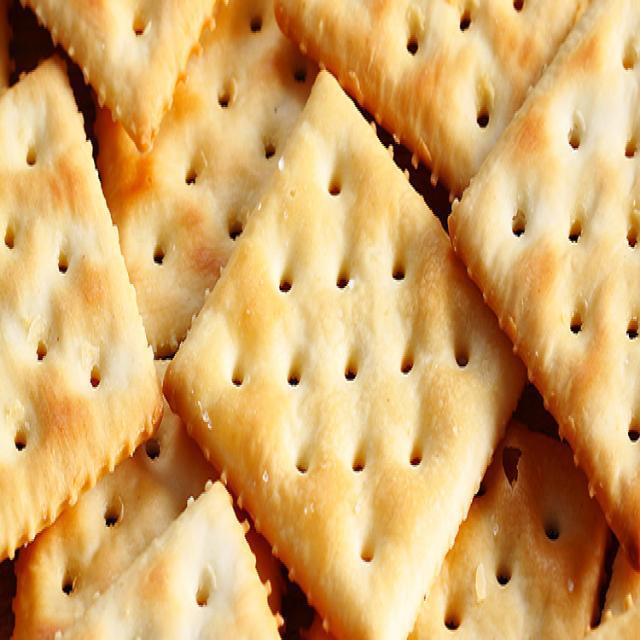Cracker: (179, 55, 527, 640), (462, 20, 640, 506), (1, 66, 173, 566)
